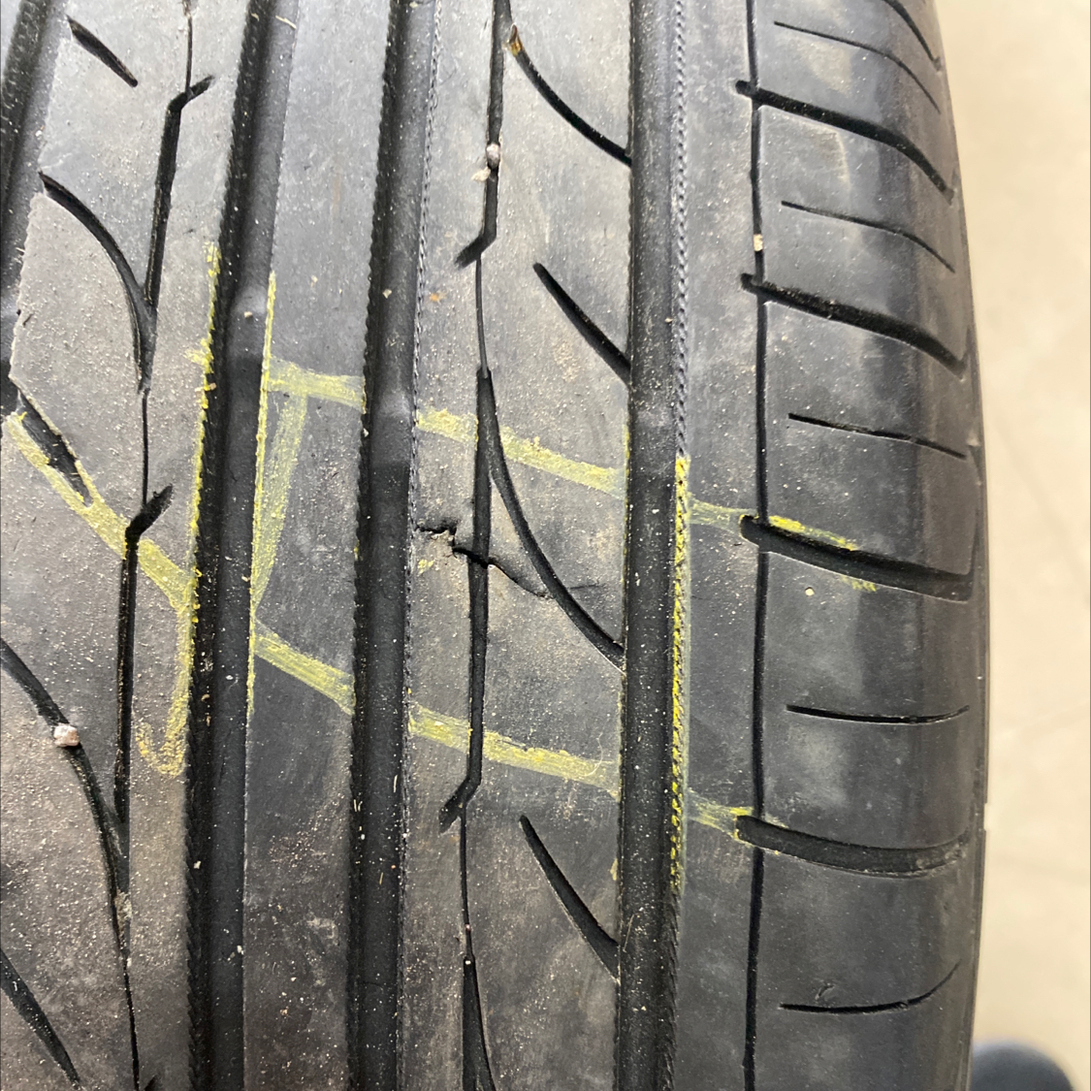tr: (423, 506, 559, 612)
